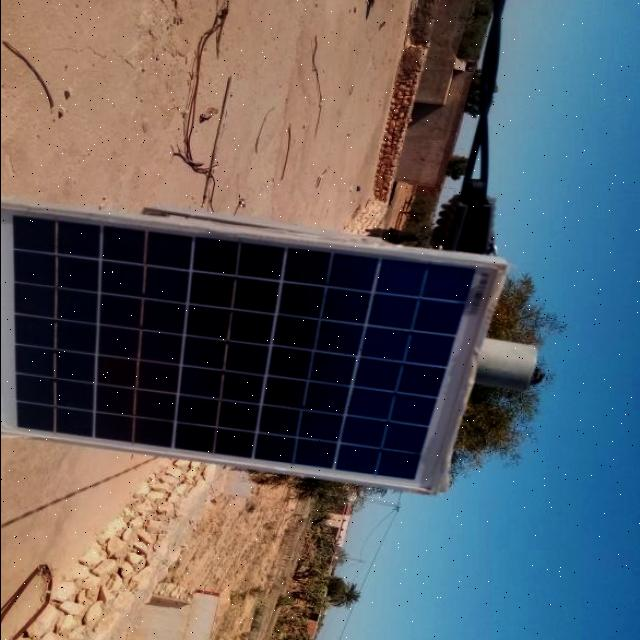Normal Solar Panel: (0, 202, 503, 494)
